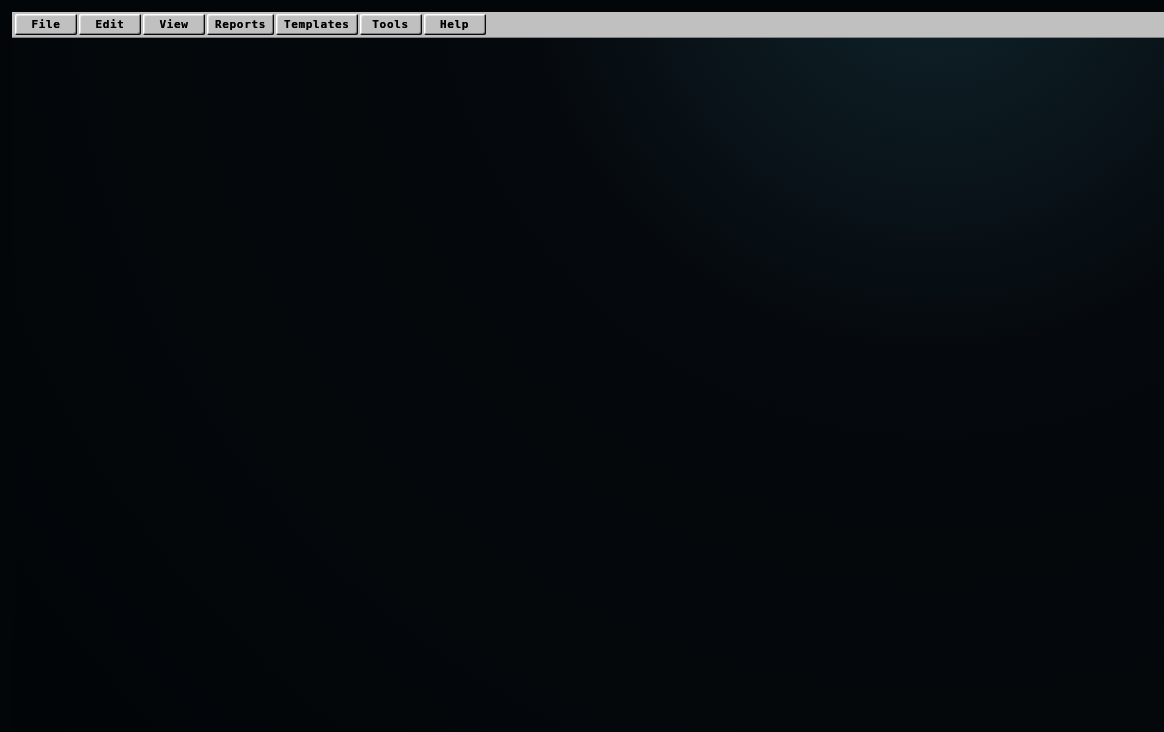
Test: ReportsMenuBar › an outside mousedown closes an open dropdown
Click the menu item "File" at [46, 24], box [14, 13, 78, 36]
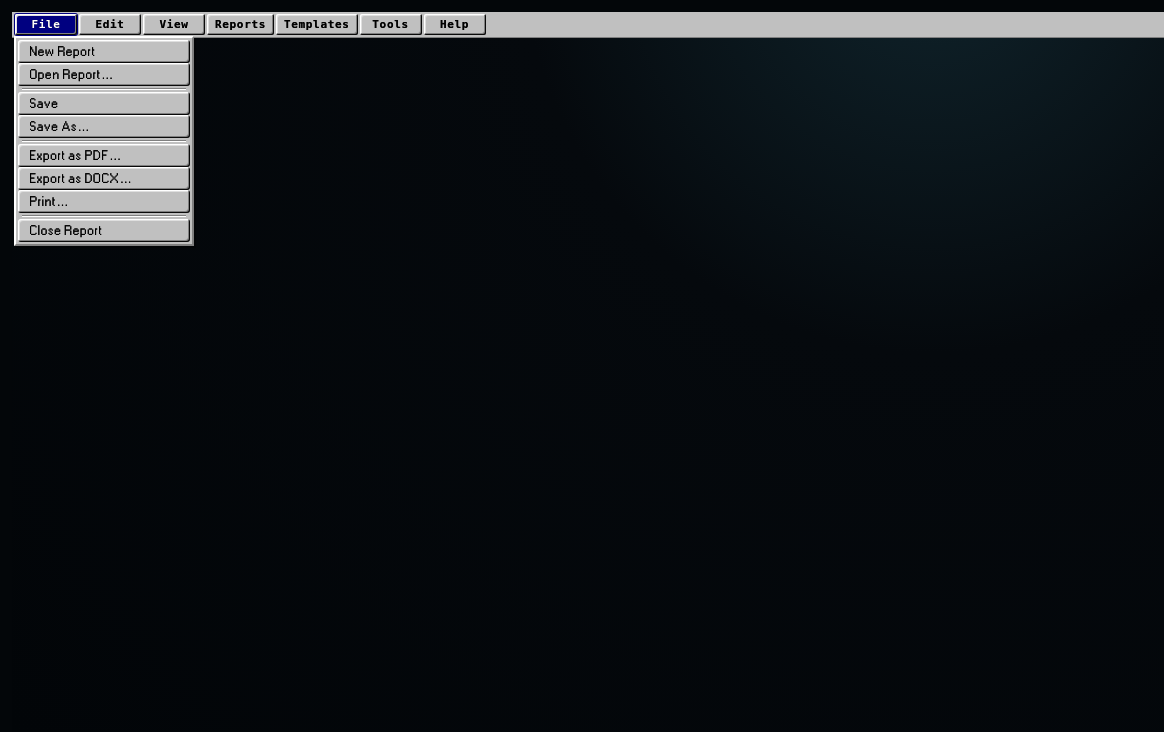
Check: the menu with class "ga98-report-menu-dropdown" is shown, box [14, 36, 194, 246]
Press the mouse on the element that starts with "File" at [588, 372], box [12, 12, 1163, 731]
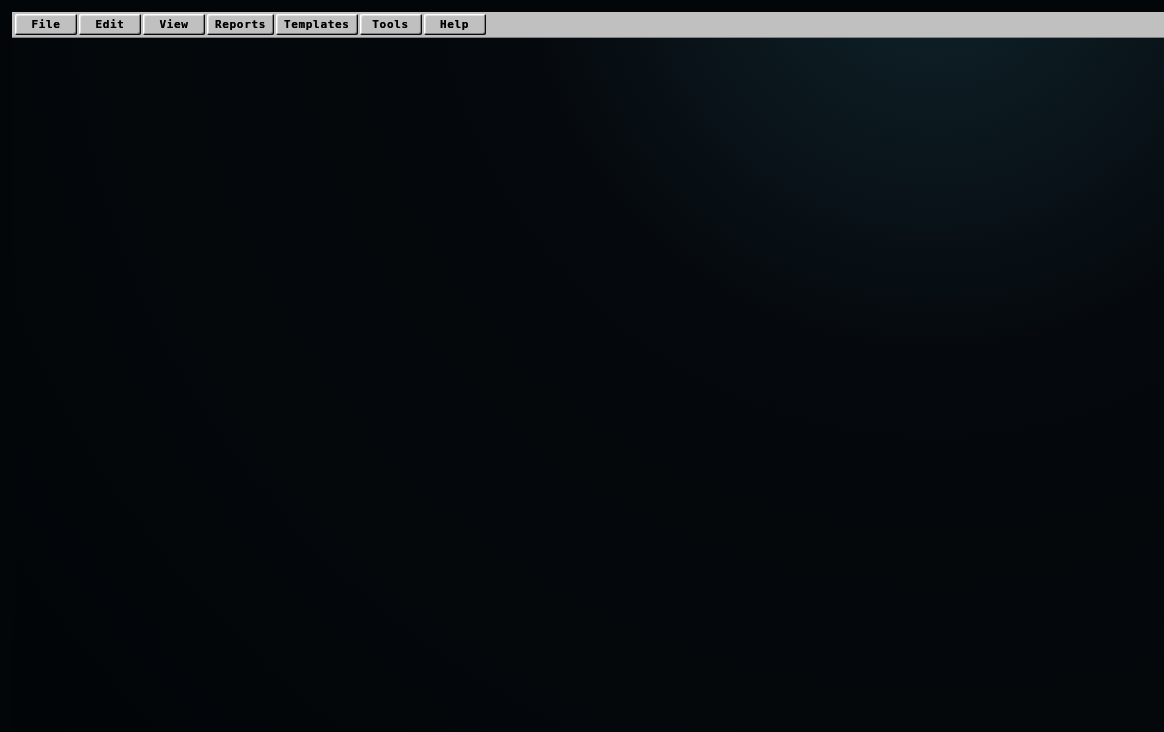
Check: the menu with class "ga98-report-menu-dropdown" is gone
